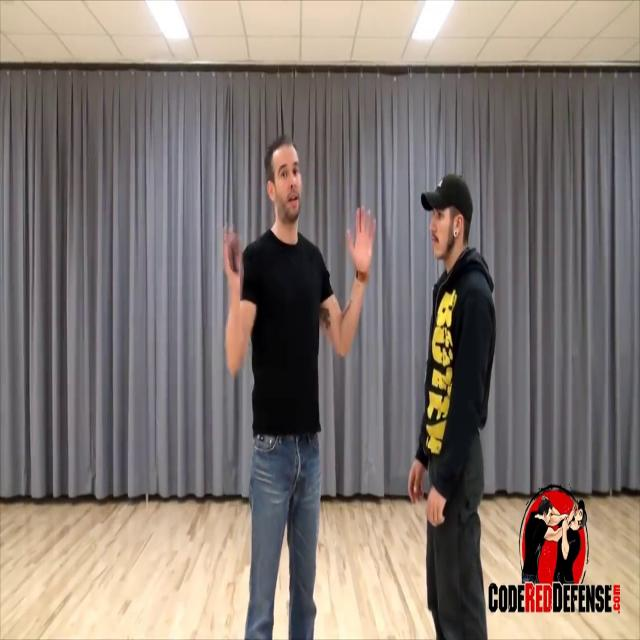Knife_Handle: (222, 212, 242, 288)
